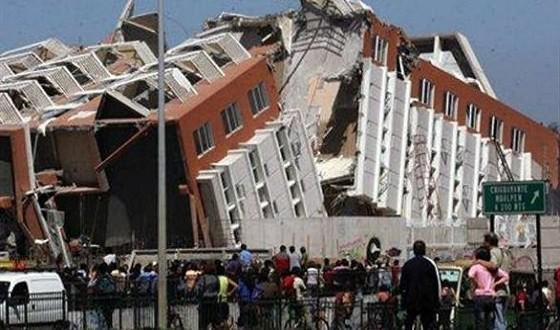destroyed: (1, 3, 560, 270)
